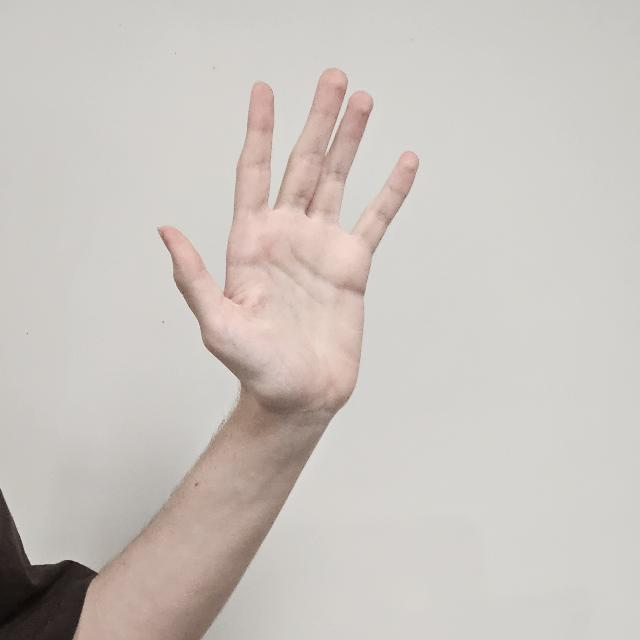X: (158, 69, 436, 421)
